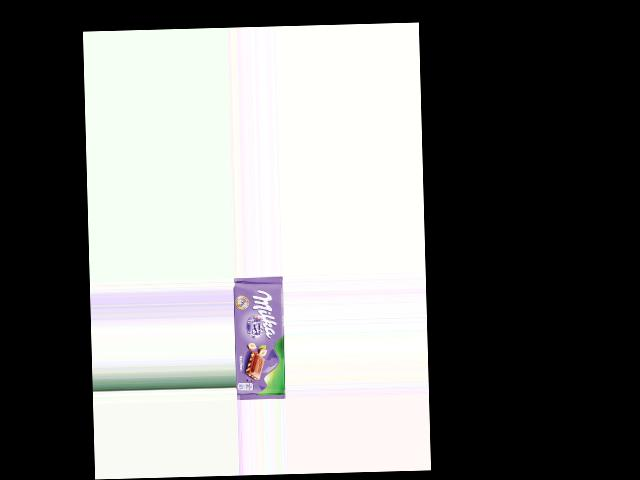chocolate: (232, 276, 285, 400)
